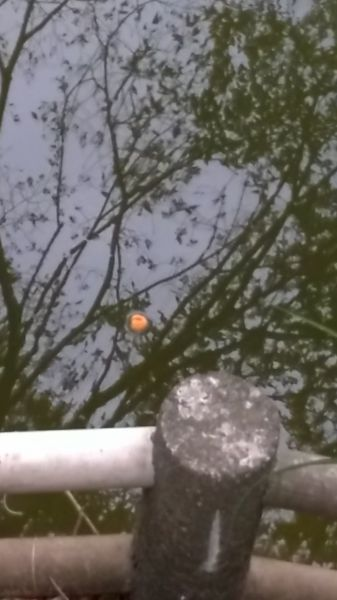eggs: (122, 309, 150, 333)
